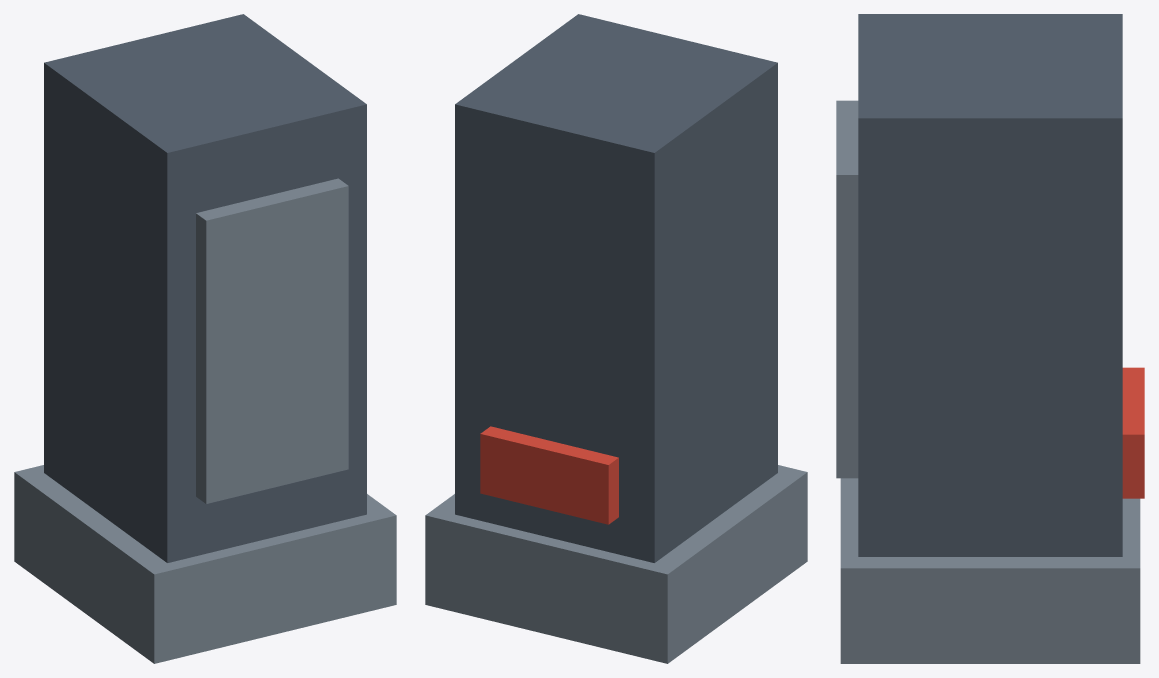
The picture shows the model from 3 angles, left to right: view 1: azimuth 30°, elevation 25°; view 2: azimuth 150°, elevation 25°; view 3: azimuth 270°, elevation 25°; orthographic projection. The views are drawn at different scales.
Visible parts, largest first — view 1: GEO_module_grip_shell_01_LOD0; view 2: GEO_module_grip_shell_01_LOD0; view 3: GEO_module_grip_shell_01_LOD0.
Part boxes in pixels (x1,y1,x2,y2): GEO_module_grip_shell_01_LOD0: (14,14,396,663); GEO_module_grip_shell_01_LOD0: (425,14,807,663); GEO_module_grip_shell_01_LOD0: (836,14,1144,663).
Size of the model in its own units: 0.034 by 0.067 by 0.035.
